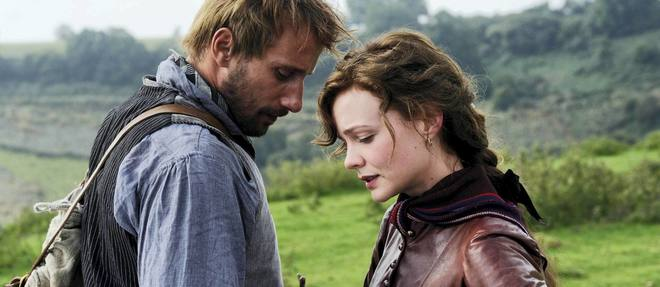without_mask: (329, 96, 409, 207), (239, 34, 312, 138)
